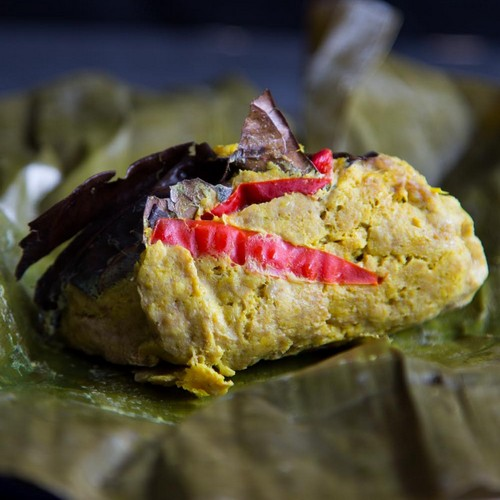tum ayam: (68, 130, 484, 374)
